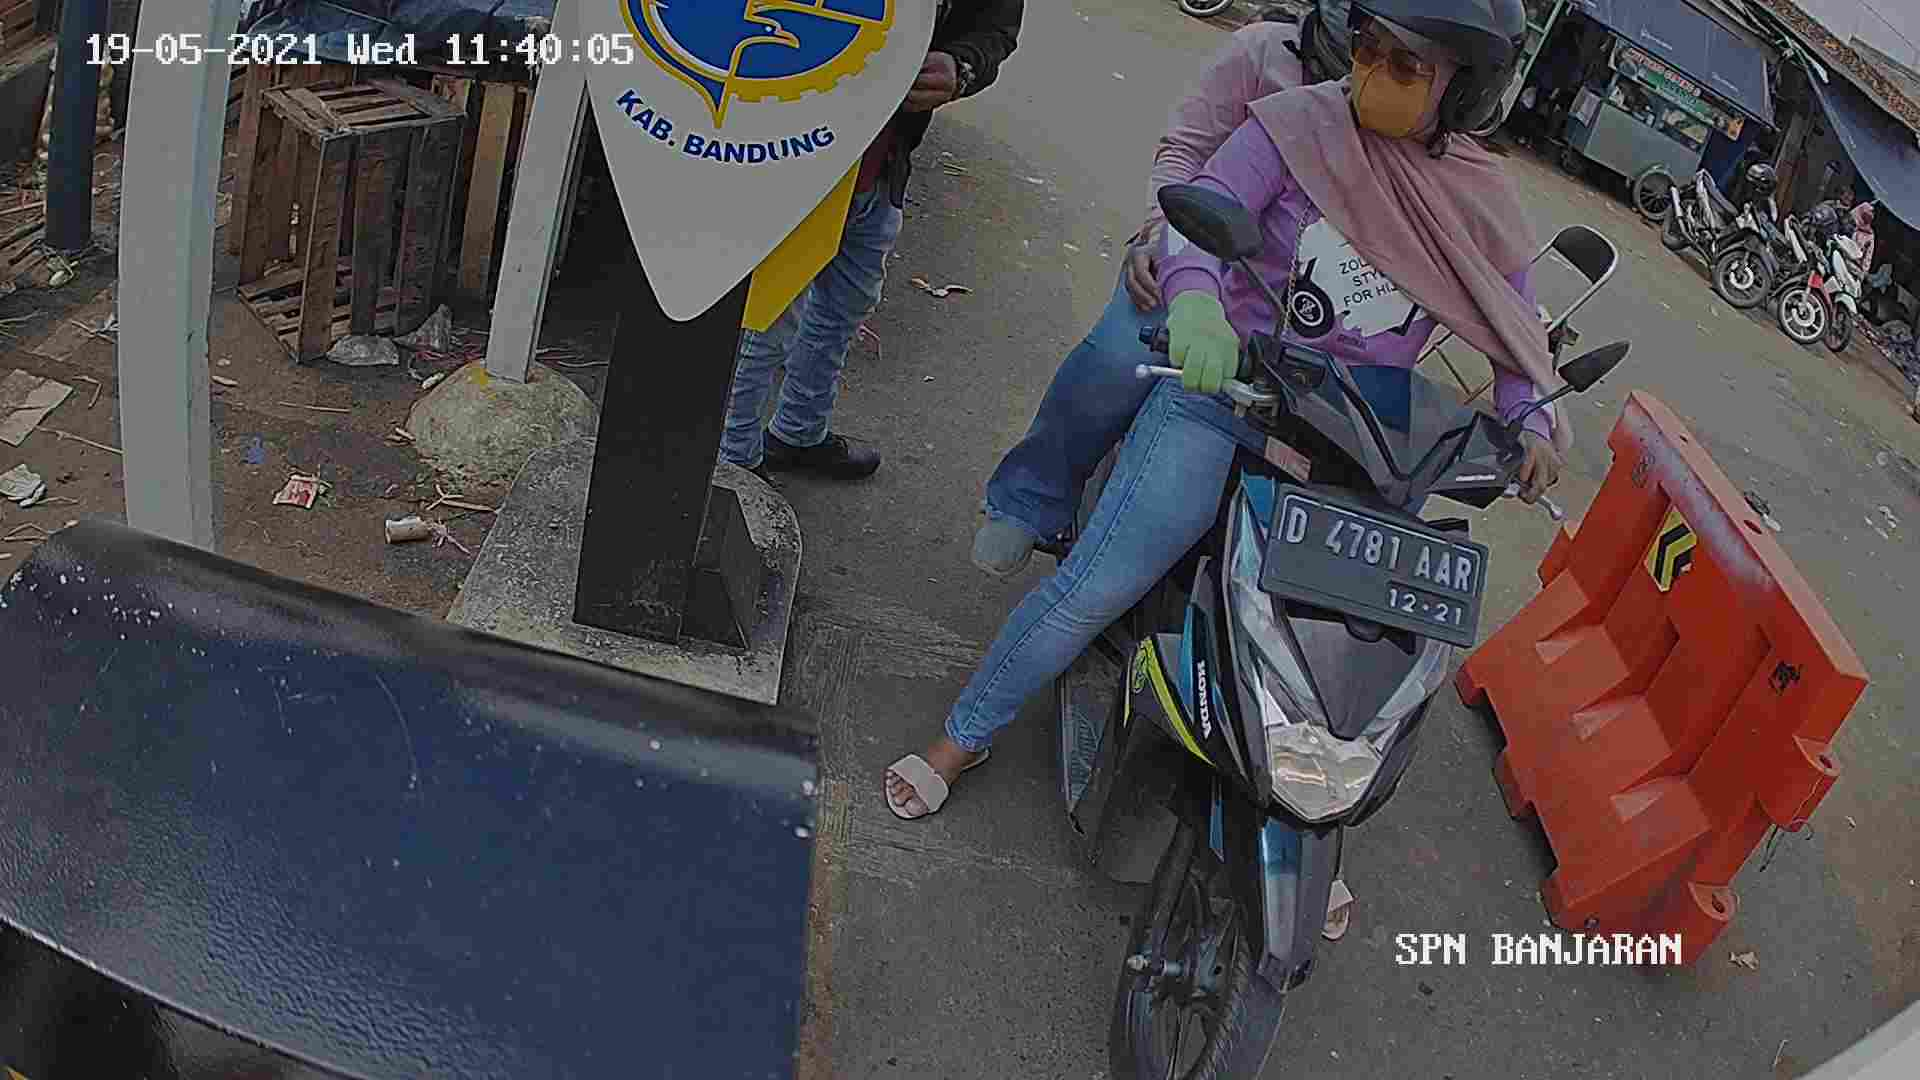motor: (1042, 301, 1509, 1076)
